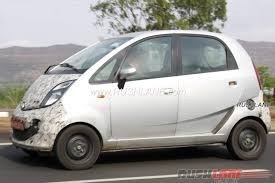Nano: (9, 30, 270, 169)
